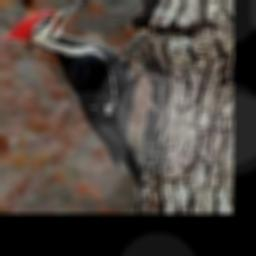Woodpecker: (3, 0, 144, 198)
